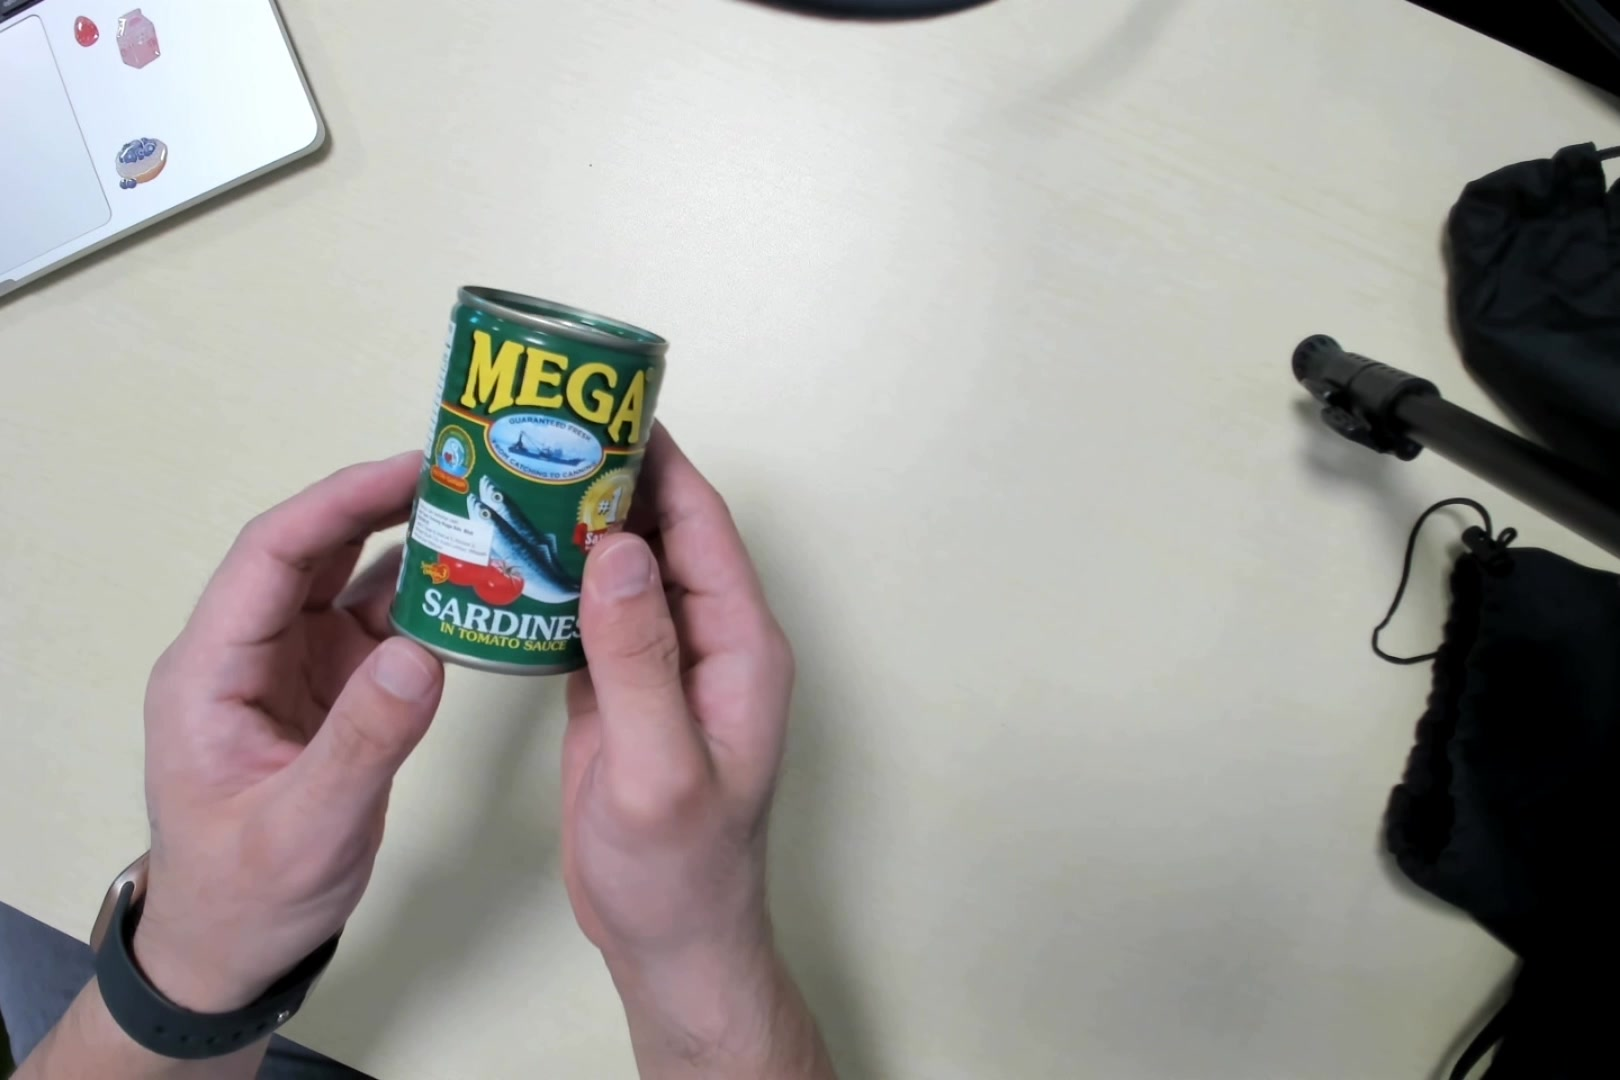CannedSardingMackerel_100-199g_NonHalal_NonHealthy: (389, 276, 658, 685)
